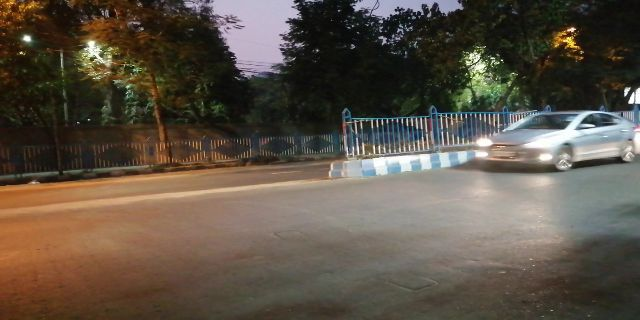Car: (474, 103, 640, 174)
